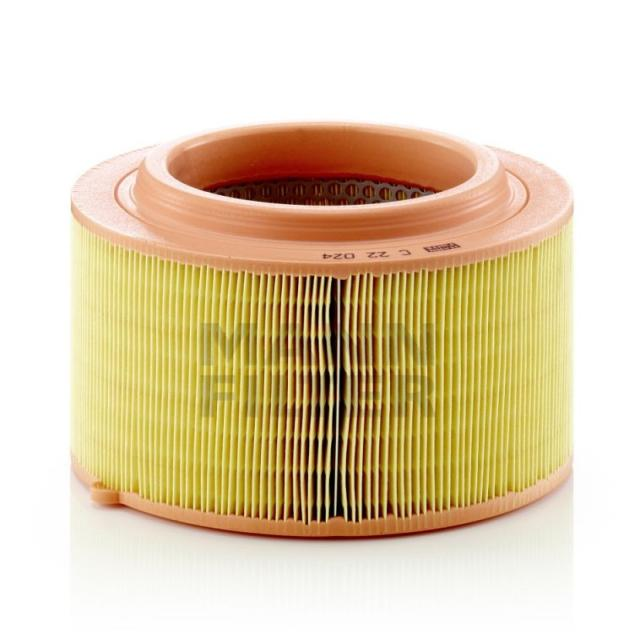air_filter: (61, 112, 584, 532)
